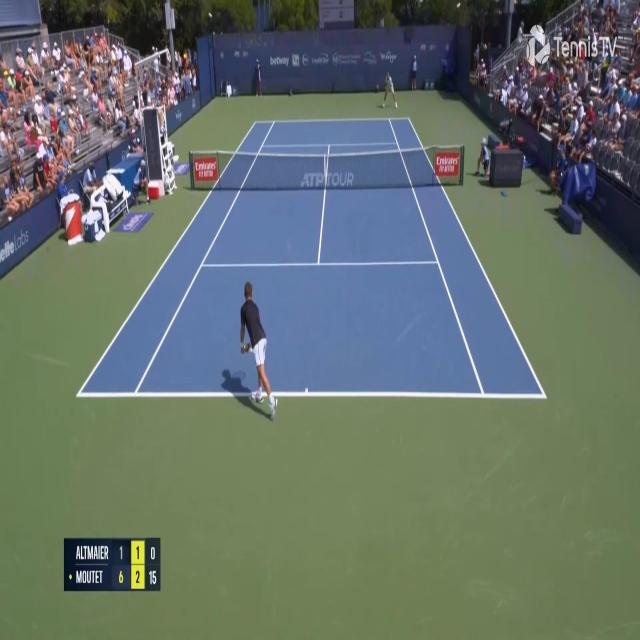tennis-player: (232, 278, 280, 418), (381, 74, 398, 110)
